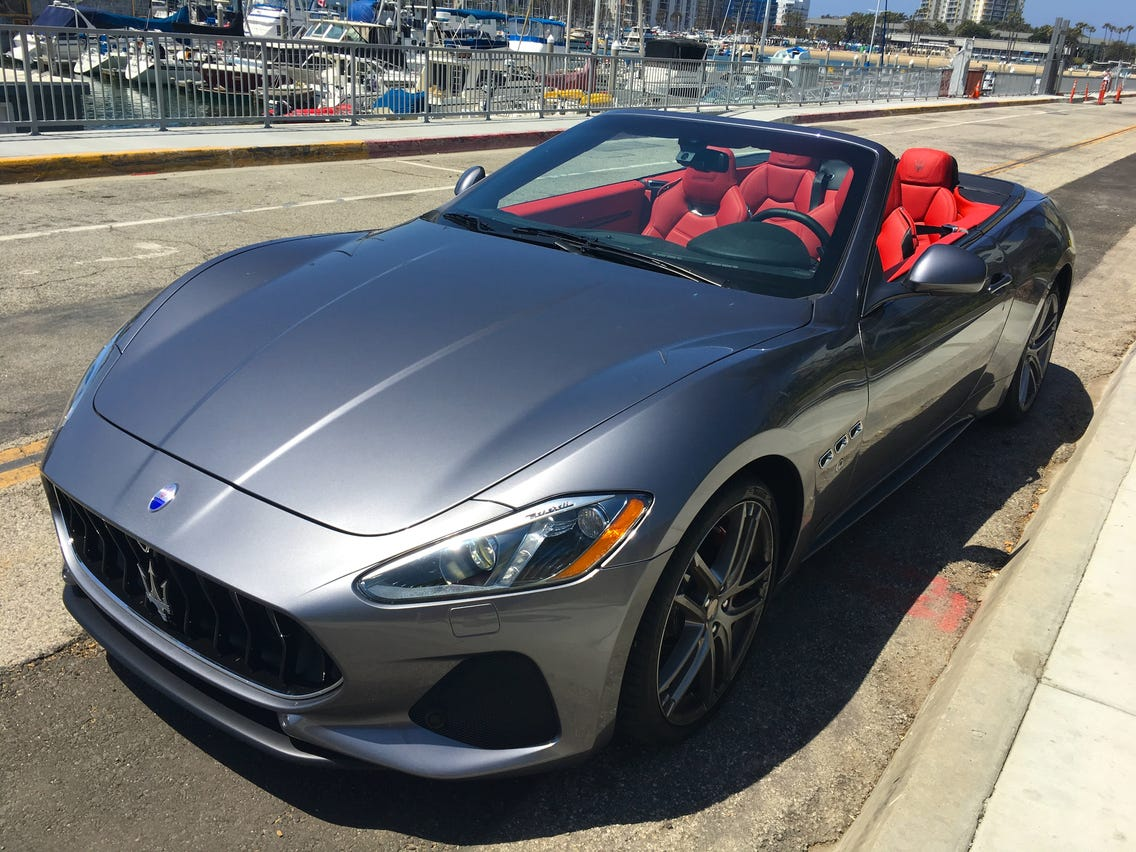car: (37, 109, 1075, 781)
